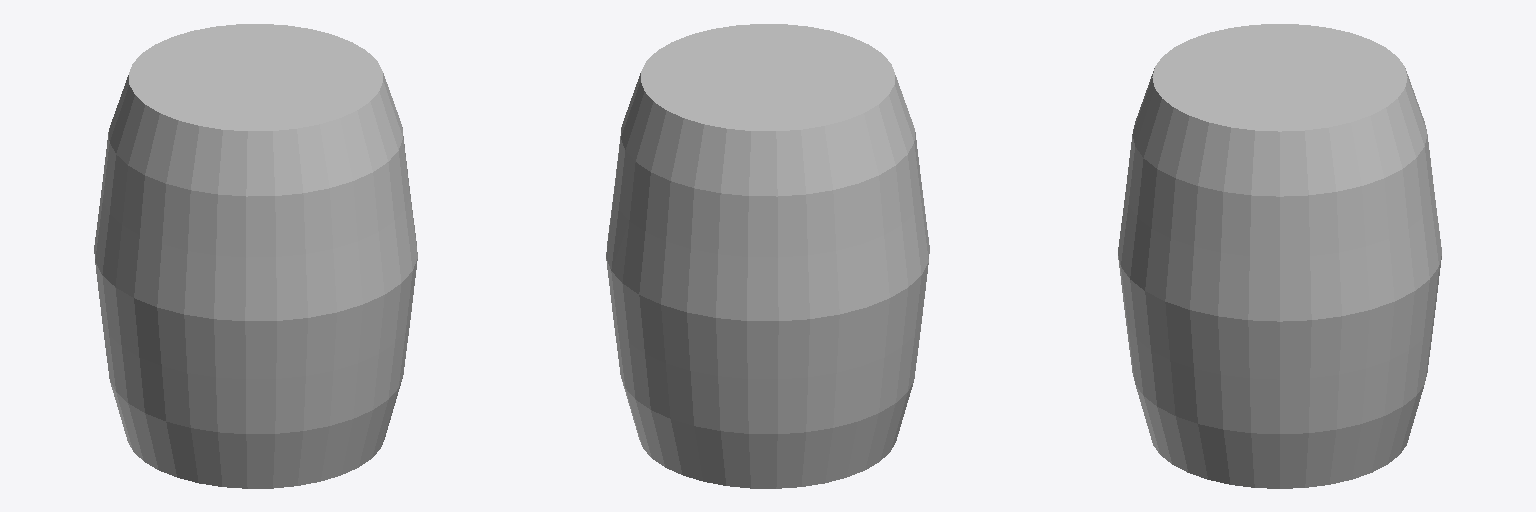
The model's file is barrel.obj.
3 renders of one model, left to right at view 1: azimuth 30°, elevation 25°; view 2: azimuth 150°, elevation 25°; view 3: azimuth 270°, elevation 25°, orthographic.
Visible parts, largest first — view 1: obj.barrel.000_Cylinder; view 2: obj.barrel.000_Cylinder; view 3: obj.barrel.000_Cylinder.
Part boxes in pixels (x1,y1,x2,y2): obj.barrel.000_Cylinder: (94,24,417,488); obj.barrel.000_Cylinder: (606,24,929,488); obj.barrel.000_Cylinder: (1118,24,1441,488).
Bounding box in the file's own units: 0.315 × 0.382 × 0.315.